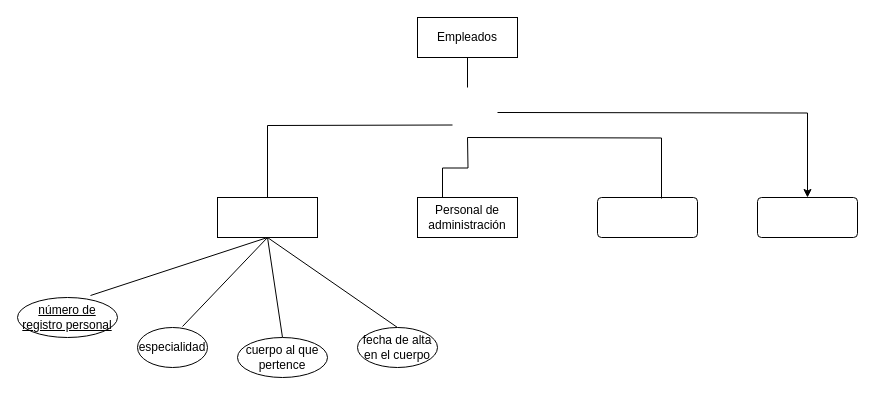
This 875x395 diagram has some shape labels left out. Each missing label, with the box of its shape:
Limpieza: (596, 196, 698, 238)
Mantenimiento: (756, 196, 858, 238)
Profesores: (216, 196, 318, 238)
